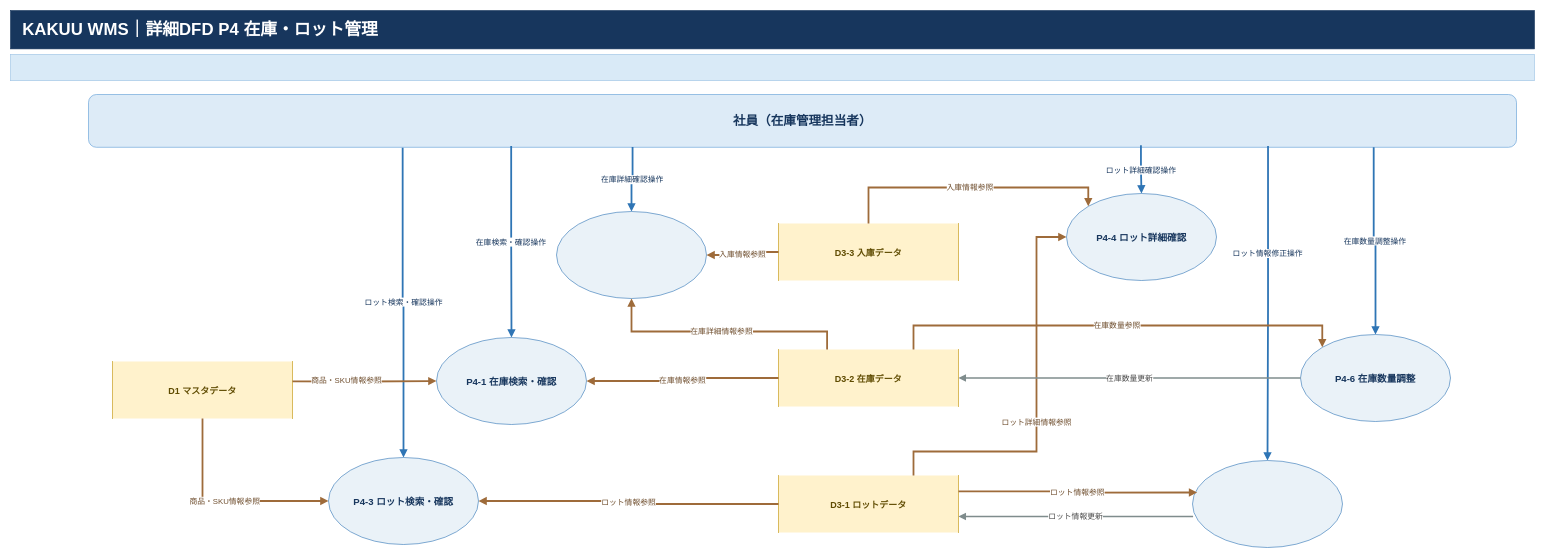
Image size: 1545x558. Some labels were removed from this diagram. Here are the shapes that lost their labels. From the top down, the box of each, then its label:
(10, 54, 1534, 81): 在庫・ロット情報の検索・確認・修正・数量調整に関するデータフローを示す。
(556, 211, 706, 298): P4-2 在庫詳細確認
(1192, 460, 1342, 548): P4-5 ロット情報修正
